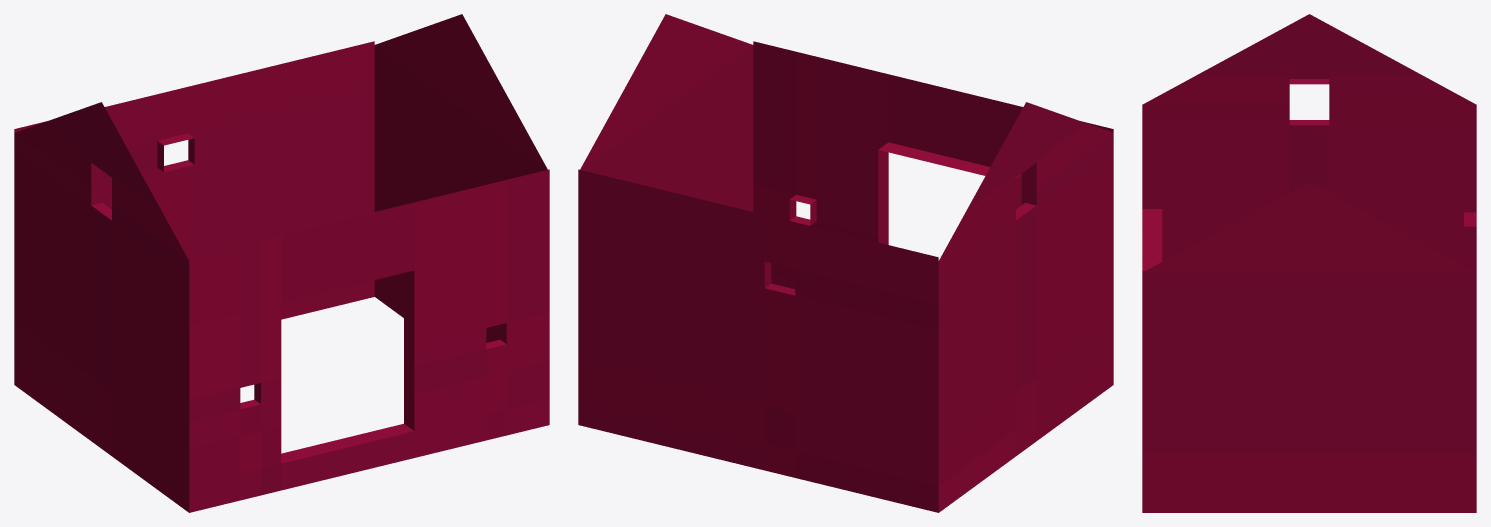
The model's file is SM_Bld_160_Masonry.glb.
3 renders of one model, left to right at view 1: azimuth 30°, elevation 25°; view 2: azimuth 150°, elevation 25°; view 3: azimuth 270°, elevation 25°, orthographic. The views are drawn at different scales.
Visible parts, largest first — view 1: SM_Bld_160_Masonry; view 2: SM_Bld_160_Masonry; view 3: SM_Bld_160_Masonry.
Part boxes in pixels (x1,y1,x2,y2): SM_Bld_160_Masonry: [14, 14, 549, 512]; SM_Bld_160_Masonry: [578, 14, 1113, 512]; SM_Bld_160_Masonry: [1142, 14, 1476, 512].
Size of the model in its own units: 7.04 by 6.47 by 5.92.
